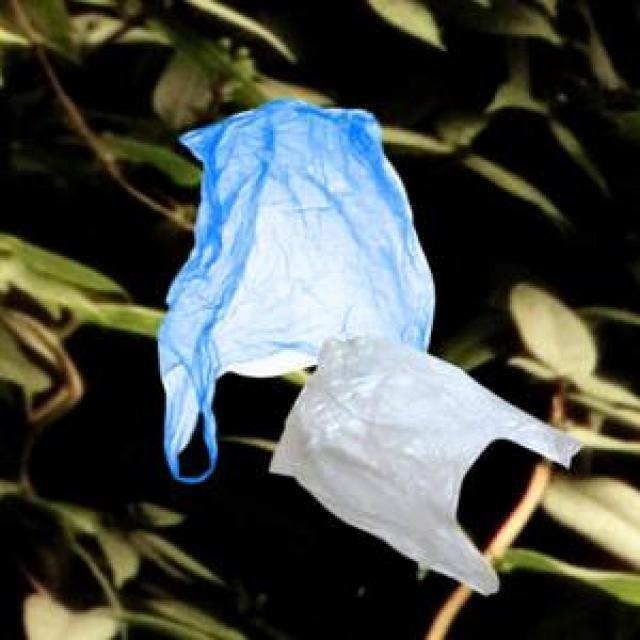Plastic_Bag: (154, 95, 432, 479), (266, 334, 580, 592)
